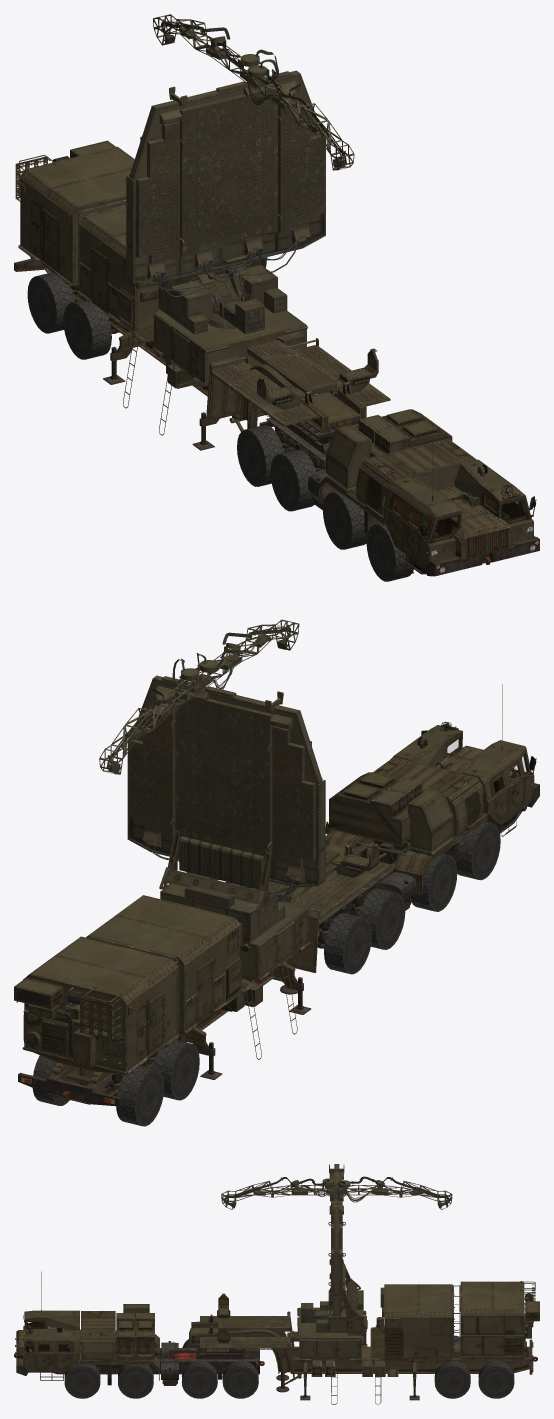
Rendered from ussr_ai_sam_radar_5n64s_shop.obj.
3 renders of one model, top to bottom at view 1: azimuth 30°, elevation 25°; view 2: azimuth 150°, elevation 25°; view 3: azimuth 270°, elevation 25°, orthographic. The views are drawn at different scales.
Parts seen in each view (by area): view 1: vehicle#body_0, vehicle#antenna_target_location_3, vehicle#wheel_r_05_11, vehicle#wheel_r_03_2, vehicle#wheel_r_06_13, vehicle#wheel_r_04_9, vehicle#wheel_r_02_7, vehicle#wheel_r_01_6; view 2: vehicle#body_0, vehicle#antenna_target_location_3, vehicle#wheel_r_04_9, vehicle#wheel_r_06_13, vehicle#wheel_r_05_11, vehicle#wheel_r_03_2, vehicle#wheel_r_01_6, vehicle#wheel_r_02_7, vehicle#wheel_l_06_12; view 3: vehicle#body_0, vehicle#antenna_target_location_3, vehicle#wheel_l_06_12, vehicle#wheel_l_04_8, vehicle#wheel_l_03_1, vehicle#wheel_l_05_10, vehicle#wheel_l_02_5, vehicle#wheel_l_01_4.
Boxes of the visible parts, x1=… form: vehicle#body_0: x1=14, y1=140, x2=539, y2=576; vehicle#antenna_target_location_3: x1=126, y1=14, x2=354, y2=334; vehicle#wheel_r_05_11: x1=63, y1=299, x2=111, y2=359; vehicle#wheel_r_03_2: x1=270, y1=449, x2=316, y2=511; vehicle#wheel_r_06_13: x1=27, y1=272, x2=74, y2=333; vehicle#wheel_r_04_9: x1=237, y1=425, x2=284, y2=486; vehicle#wheel_r_02_7: x1=323, y1=491, x2=366, y2=549; vehicle#wheel_r_01_6: x1=366, y1=522, x2=413, y2=581; vehicle#body_0: x1=14, y1=684, x2=539, y2=1106; vehicle#antenna_target_location_3: x1=99, y1=619, x2=325, y2=943; vehicle#wheel_r_04_9: x1=324, y1=913, x2=371, y2=974; vehicle#wheel_r_06_13: x1=116, y1=1066, x2=164, y2=1126; vehicle#wheel_r_05_11: x1=152, y1=1040, x2=199, y2=1100; vehicle#wheel_r_03_2: x1=358, y1=888, x2=405, y2=949; vehicle#wheel_r_01_6: x1=456, y1=822, x2=500, y2=880; vehicle#wheel_r_02_7: x1=410, y1=853, x2=457, y2=911; vehicle#wheel_l_06_12: x1=32, y1=1055, x2=69, y2=1105; vehicle#body_0: x1=14, y1=1271, x2=539, y2=1404; vehicle#antenna_target_location_3: x1=221, y1=1164, x2=452, y2=1335; vehicle#wheel_l_06_12: x1=478, y1=1360, x2=514, y2=1398; vehicle#wheel_l_04_8: x1=222, y1=1360, x2=258, y2=1398; vehicle#wheel_l_03_1: x1=181, y1=1360, x2=217, y2=1398; vehicle#wheel_l_05_10: x1=434, y1=1360, x2=470, y2=1398; vehicle#wheel_l_02_5: x1=118, y1=1364, x2=153, y2=1398; vehicle#wheel_l_01_4: x1=64, y1=1361, x2=100, y2=1398.
Bounding box in the file's own units: 5.64 × 9.9 × 21.85.
7 materials, 6 textured.
